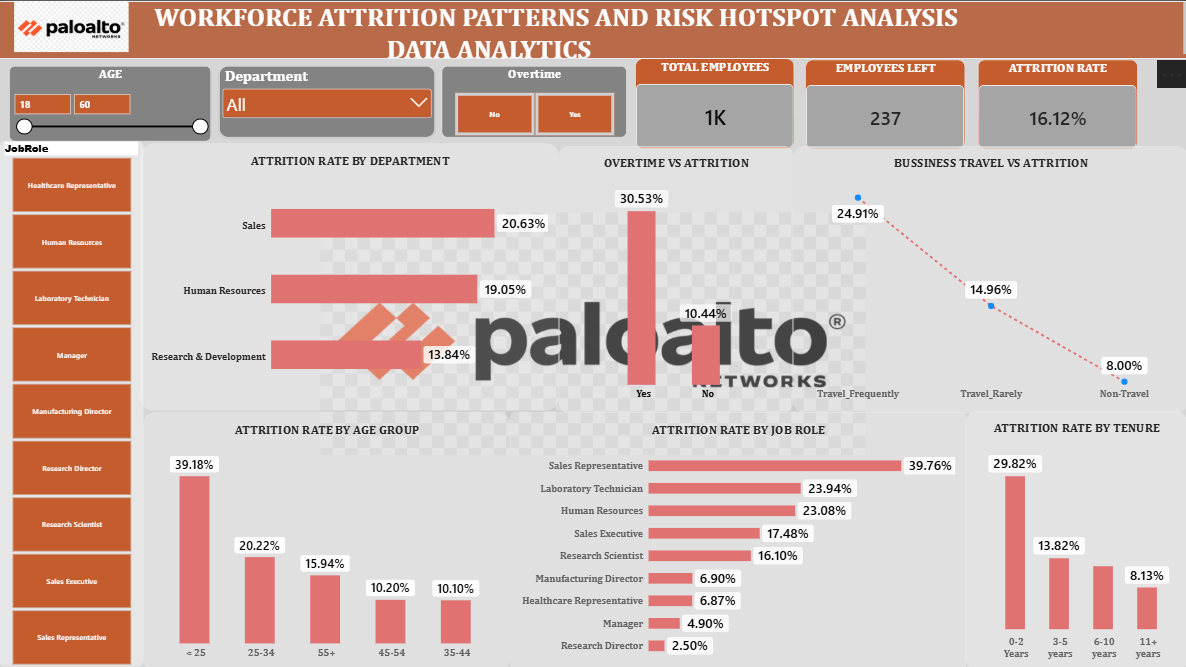

The page's visual inventory and layout, read from the dashboard file:
{"tool":"powerbi","page":{"name":"overview","canvas":[1920,1080],"ordinal":0},"visuals":[{"type":"cardVisual","title":"TOTAL EMPLOYEES","fields":{"Data":["Palo Alto Networks (1).Total employees"]},"box":[1028.8,92.8,256.2,145.2],"z":0},{"type":"cardVisual","title":"EMPLOYEES LEFT","fields":{"Data":["Palo Alto Networks (1).Employee left"]},"box":[1303.1,94.8,257.3,144.1],"z":1000},{"type":"cardVisual","title":"ATTRITION RATE","fields":{"Data":["Palo Alto Networks (1).attrition rate"]},"box":[1580.8,94.7,257.3,144.1],"z":2000},{"type":"textbox","box":[0,0,1920.4,92.6],"z":3000},{"type":"slicer","fields":{"Values":["Palo Alto Networks (1).Department"]},"box":[357.1,104.9,347.9,115.3],"z":4000},{"type":"clusteredBarChart","title":" ATTRITION RATE BY DEPARTMENT","fields":{"Category":["Palo Alto Networks (1).Department"],"Y":["Palo Alto Networks (1).attrition rate"]},"box":[230.5,230.5,675.1,430.2],"z":5000},{"type":"barChart","title":" ATTRITION RATE BY JOB ROLE","fields":{"Category":["Palo Alto Networks (1).JobRole"],"Y":["Palo Alto Networks (1).attrition rate"]},"box":[827.4,662.8,734.8,417.8],"z":6000},{"type":"columnChart","title":" ATTRITION RATE BY AGE GROUP","fields":{"Category":["Palo Alto Networks (1).age group"],"Y":["Palo Alto Networks (1).attrition rate"]},"box":[234.6,662.8,592.8,417.8],"z":7000},{"type":"lineStackedColumnComboChart","title":" ATTRITION RATE BY TENURE","fields":{"Category":["Palo Alto Networks (1).TENURE BAND"],"Y":["Palo Alto Networks (1).attrition rate"]},"box":[1562.3,660.7,358.1,419.9],"z":8000},{"type":"lineStackedColumnComboChart","title":"OVERTIME VS ATTRITION","fields":{"Category":["Palo Alto Networks (1).OverTime"],"Y":["Palo Alto Networks (1).attrition rate"]},"box":[905.7,234.6,376.7,430.2],"z":9000},{"type":"slicer","title":"AGE","fields":{"Values":["Palo Alto Networks (1).Age"]},"box":[18.5,105,325.2,121.4],"z":10000},{"type":"slicer","fields":{"Values":["Palo Alto Networks (1).JobRole"]},"box":[2.1,226.4,232.6,848],"z":11000},{"type":"slicer","title":"Overtime","fields":{"Values":["Palo Alto Networks (1).OverTime"]},"box":[716.1,104.9,298.6,115],"z":12000},{"type":"lineChart","title":"BUSSINESS TRAVEL VS ATTRITION ","fields":{"Category":["Palo Alto Networks (1).BusinessTravel"],"Y":["Palo Alto Networks (1).attrition rate"]},"box":[1282.3,234.6,638.1,430.2],"z":13000},{"type":"image","box":[2.1,0,232.6,82.3],"z":17000}]}

Visuals, with their boxes in screenshot pixels (x1, y1, x2, y2), scaled from the page's 1920x1080 canvas onto the 1186x667 screenshot:
"TOTAL EMPLOYEES" cardVisual: {"left": 635, "top": 57, "right": 794, "bottom": 147}
"EMPLOYEES LEFT" cardVisual: {"left": 805, "top": 59, "right": 964, "bottom": 148}
"ATTRITION RATE" cardVisual: {"left": 976, "top": 58, "right": 1135, "bottom": 147}
textbox: {"left": 0, "top": 0, "right": 1185, "bottom": 57}
slicer - Palo Alto Networks (1).Department: {"left": 221, "top": 65, "right": 435, "bottom": 136}
" ATTRITION RATE BY DEPARTMENT" clusteredBarChart: {"left": 142, "top": 142, "right": 559, "bottom": 408}
" ATTRITION RATE BY JOB ROLE" barChart: {"left": 511, "top": 409, "right": 965, "bottom": 666}
" ATTRITION RATE BY AGE GROUP" columnChart: {"left": 145, "top": 409, "right": 511, "bottom": 666}
" ATTRITION RATE BY TENURE" lineStackedColumnComboChart: {"left": 965, "top": 408, "right": 1185, "bottom": 666}
"OVERTIME VS ATTRITION" lineStackedColumnComboChart: {"left": 559, "top": 145, "right": 792, "bottom": 411}
"AGE" slicer: {"left": 11, "top": 65, "right": 212, "bottom": 140}
slicer - Palo Alto Networks (1).JobRole: {"left": 1, "top": 140, "right": 145, "bottom": 664}
"Overtime" slicer: {"left": 442, "top": 65, "right": 627, "bottom": 136}
"BUSSINESS TRAVEL VS ATTRITION " lineChart: {"left": 792, "top": 145, "right": 1185, "bottom": 411}
image: {"left": 1, "top": 0, "right": 145, "bottom": 51}
